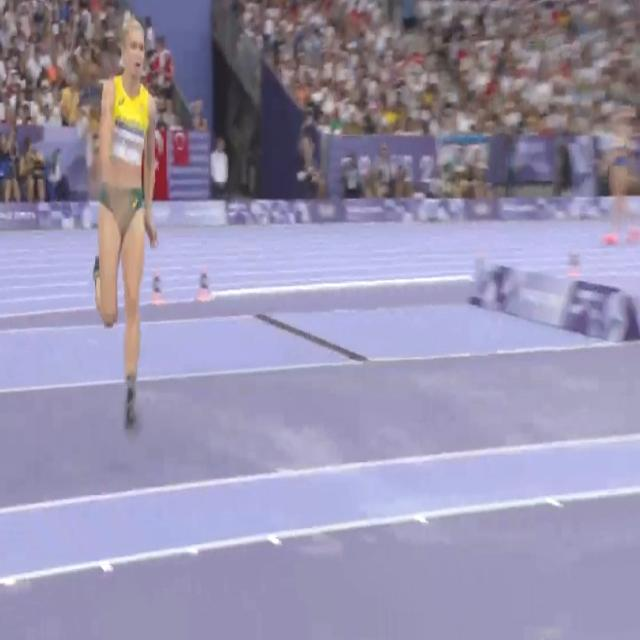run: (93, 16, 166, 438)
